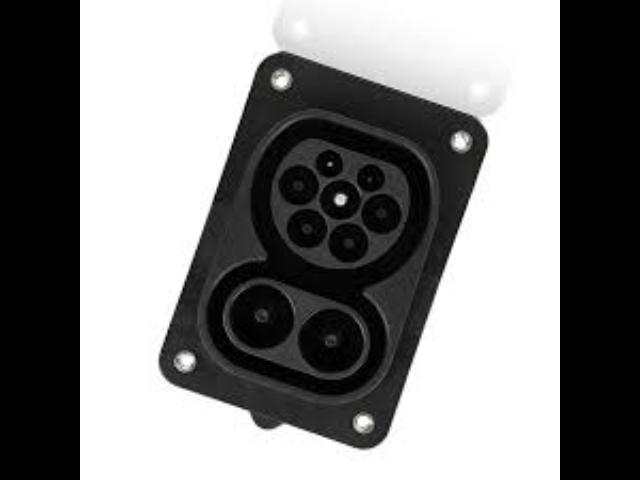inlet: (271, 139, 411, 269)
inlet-above-left: (316, 148, 343, 177)
inlet-above-right: (358, 164, 386, 191)
inlet-below-left: (287, 208, 328, 249)
inlet-below-right: (327, 221, 370, 262)
inlet-circle: (319, 178, 361, 221)
inlet-circle-left: (279, 163, 318, 207)
inlet-circle-right: (361, 194, 401, 234)
inlet-minus: (297, 309, 363, 374)
inlet-plus: (227, 284, 294, 350)
